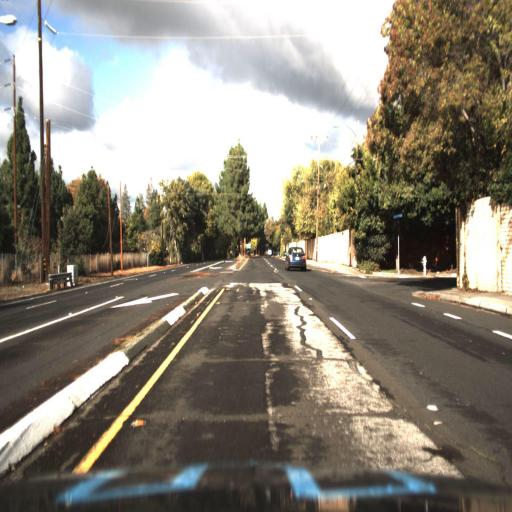car: (285, 246, 308, 272)
